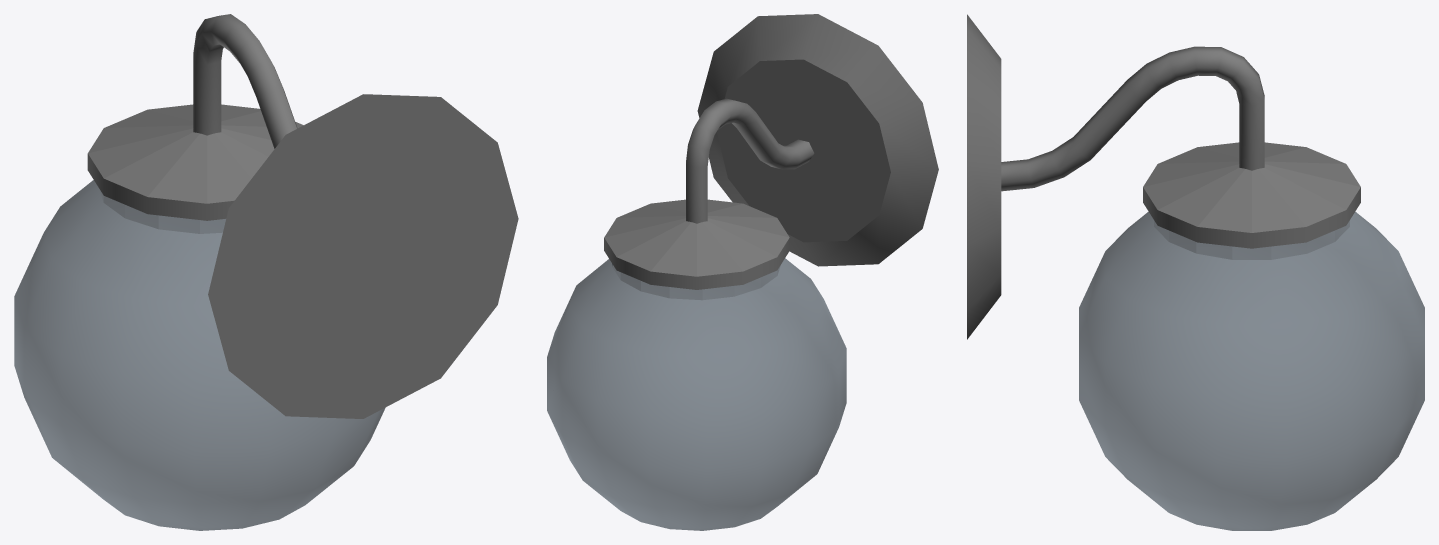
File: sconce.FBX
3 views of the same model, side by side, from view 1: azimuth 30°, elevation 25°; view 2: azimuth 150°, elevation 25°; view 3: azimuth 270°, elevation 25° (orthographic). The views are drawn at different scales.
Parts seen in each view (by area): view 1: sconce; view 2: sconce; view 3: sconce.
Boxes of the visible parts, left/top/right/bottom form: sconce: left=14, top=14, right=518, bottom=530; sconce: left=547, top=14, right=938, bottom=530; sconce: left=967, top=14, right=1424, bottom=530.
Bounding box in the file's own units: 21.36 × 33.26 × 28.27.
